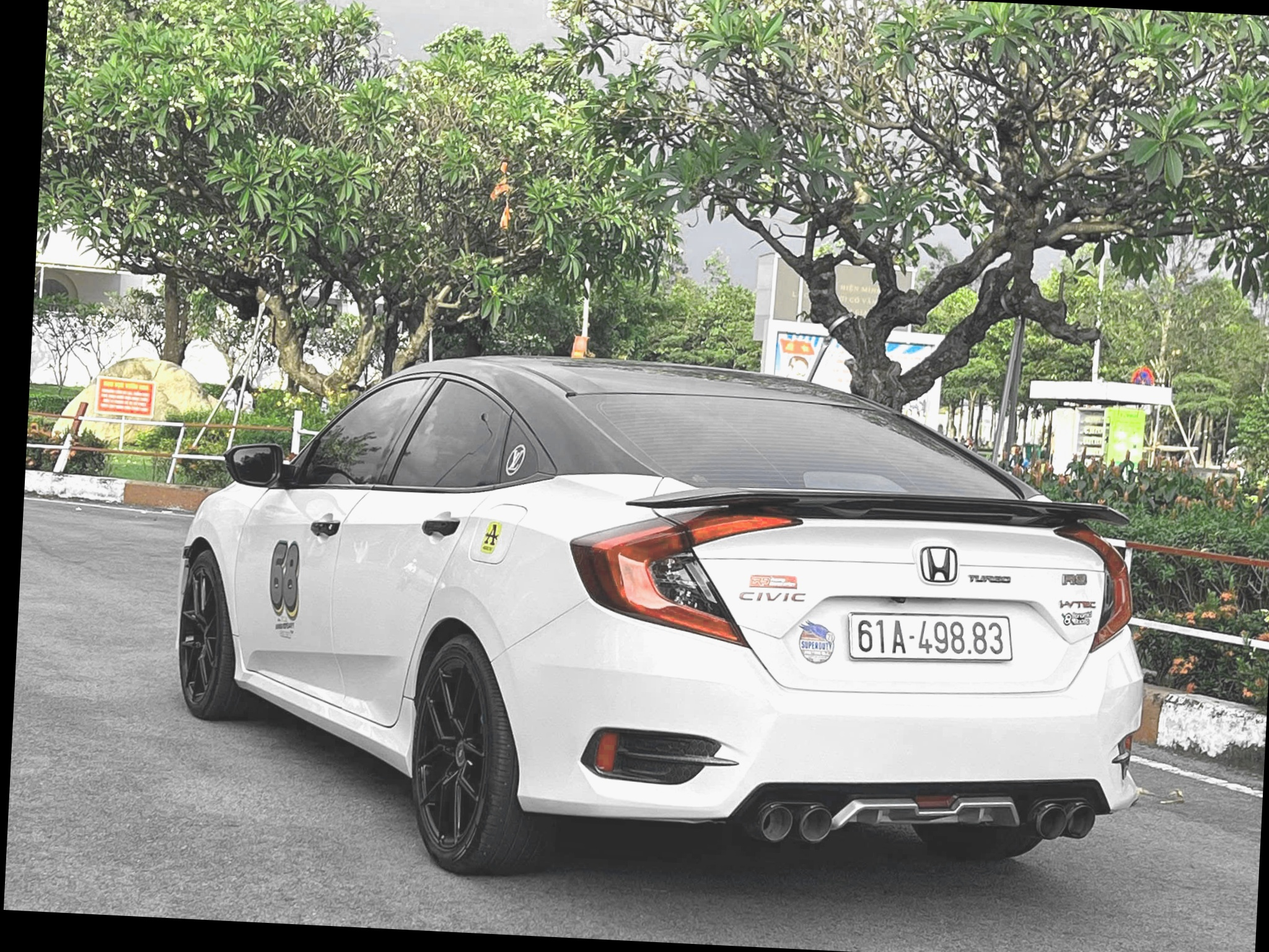Bien-so: (843, 580, 1025, 649)
